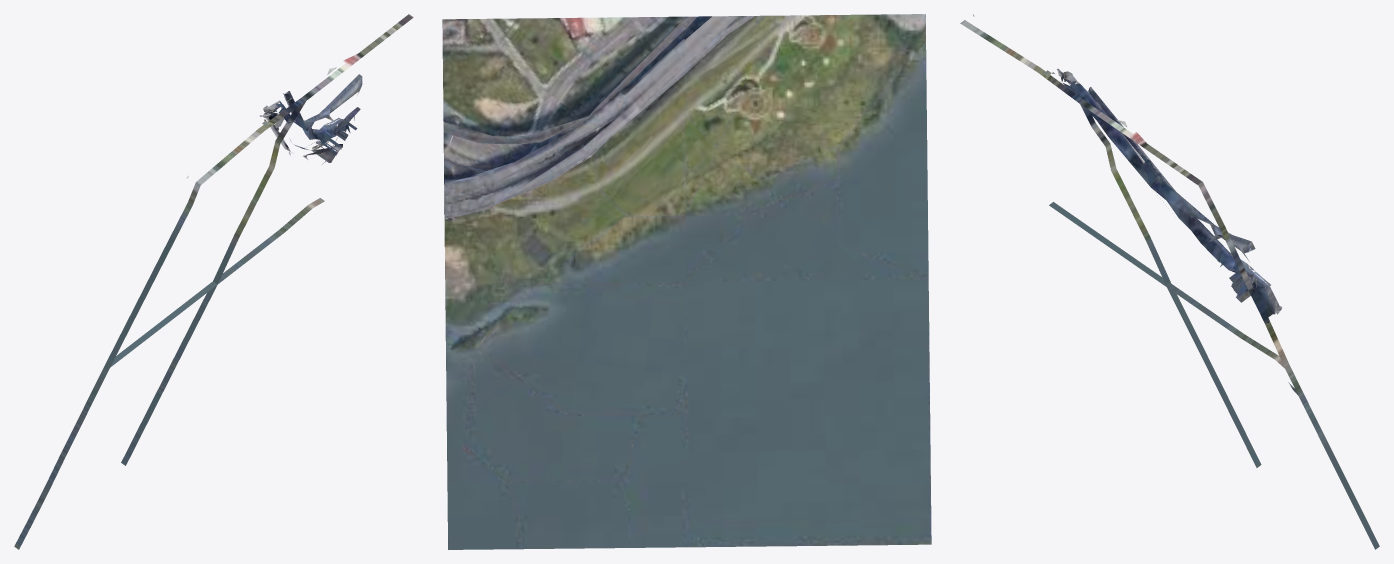
3 renders of one model, left to right at view 1: azimuth 30°, elevation 25°; view 2: azimuth 150°, elevation 25°; view 3: azimuth 270°, elevation 25°, orthographic. The views are drawn at different scales.
Bounding box in the file's own units: 609 × 565 × 514.
1 material, 1 textured.
